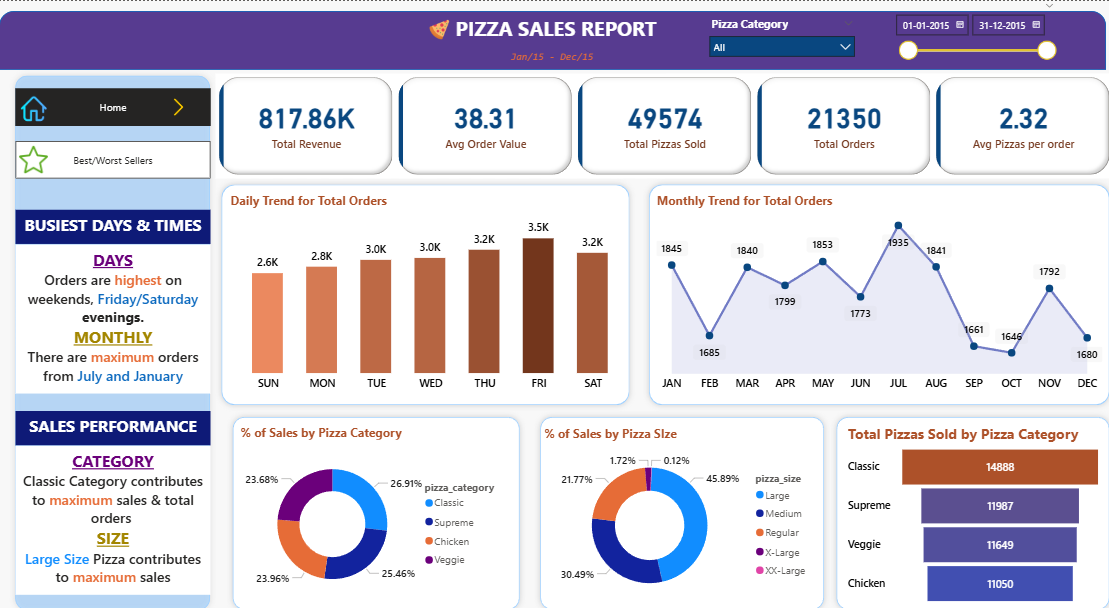

The dashboard page shown, as its layout file describes it:
{"tool":"powerbi","page":{"name":"Home","canvas":[1500,820],"ordinal":0},"visuals":[{"type":"shape","box":[14.3,91.4,275.7,728.6],"z":0},{"type":"cardVisual","fields":{"Data":["pizza_sales.Total Revenue","pizza_sales.Avg Order Value","pizza_sales.Total Pizzas Sold","pizza_sales.Total Orders","pizza_sales.Avg Pizzas per order"]},"box":[290,97.1,1200,140],"z":1000},{"type":"textbox","box":[22.9,278.6,260,45.7],"z":2000},{"type":"shape","box":[1.4,12.9,1475.7,78.6],"z":3000},{"type":"textbox","box":[588.6,12.9,311.4,62.9],"z":4000},{"type":"textbox","box":[675.7,60,127.1,30],"z":5000},{"type":"image","box":[570,16.9,36.9,43.1],"z":6000},{"type":"shape","box":[290,237.1,560,310],"z":7000},{"type":"columnChart","title":"Daily Trend for Total Orders","fields":{"Category":["pizza_sales.Order Day"],"Y":["pizza_sales.Total Orders"]},"box":[305.7,255.7,544.3,274.3],"z":8000},{"type":"shape","box":[860,237.1,630,310],"z":9000},{"type":"areaChart","title":"Monthly Trend for Total Orders","fields":{"Category":["pizza_sales.Order Month"],"Y":["pizza_sales.Total Orders"]},"box":[872.9,255.7,604.3,274.3],"z":10000},{"type":"shape","box":[305.7,547.1,398.6,272.9],"z":11000},{"type":"shape","box":[715.7,547.1,394.3,272.9],"z":12000},{"type":"shape","box":[1110,547.1,380,272.9],"z":13000},{"type":"donutChart","title":"% of Sales by Pizza Category","fields":{"Category":["pizza_sales.pizza_category"],"Y":["pizza_sales.Total Revenue"]},"box":[318.6,562.9,364.3,247.1],"z":14000},{"type":"donutChart","title":"% of Sales by Pizza SIze","fields":{"Y":["pizza_sales.Total Revenue"],"Category":["pizza_sales.pizza_size"]},"box":[722.9,564.3,371.4,247.1],"z":15000},{"type":"funnel","title":"Total Pizzas Sold by Pizza Category","fields":{"Category":["pizza_sales.pizza_category"],"Y":["pizza_sales.Total Pizzas Sold"]},"box":[1128.6,562.9,348.6,247.1],"z":16000},{"type":"textbox","box":[22.9,324.3,260,198.6],"z":17000},{"type":"textbox","box":[22.9,547.1,260,45.7],"z":18000},{"type":"textbox","box":[22.9,592.9,260,198.6],"z":19000},{"type":"slicer","fields":{"Values":["pizza_sales.pizza_category"]},"box":[938.6,14.3,214.3,75.7],"z":20000},{"type":"slicer","fields":{"Values":["pizza_sales.order_date"]},"box":[1185.7,0,234.3,97.1],"z":21000},{"type":"pageNavigator","box":[22.9,117.1,260,50],"z":21001},{"type":"pageNavigator","box":[22.9,187.1,260,50],"z":21002},{"type":"image","box":[210,125.7,61.4,32.9],"z":21003},{"type":"image","box":[22.9,121.4,48.6,44.3],"z":21004},{"type":"image","box":[22.9,187.1,48.6,50],"z":21005}]}

Visuals, with their boxes in screenshot pixels (x1, y1, x2, y2), scaled from the page's 1500x820 canvas onto the 1109x608 screenshot:
shape: l=11, t=68, r=214, b=607
cardVisual - pizza_sales.Total Revenue x pizza_sales.Avg Order Value: l=214, t=72, r=1102, b=176
textbox: l=17, t=207, r=209, b=240
shape: l=1, t=10, r=1092, b=68
textbox: l=435, t=10, r=665, b=56
textbox: l=500, t=44, r=594, b=67
image: l=421, t=13, r=449, b=44
shape: l=214, t=176, r=628, b=406
"Daily Trend for Total Orders" columnChart: l=226, t=190, r=628, b=393
shape: l=636, t=176, r=1102, b=406
"Monthly Trend for Total Orders" areaChart: l=645, t=190, r=1092, b=393
shape: l=226, t=406, r=521, b=607
shape: l=529, t=406, r=821, b=607
shape: l=821, t=406, r=1102, b=607
"% of Sales by Pizza Category" donutChart: l=236, t=417, r=505, b=601
"% of Sales by Pizza SIze" donutChart: l=534, t=418, r=809, b=602
"Total Pizzas Sold by Pizza Category" funnel: l=834, t=417, r=1092, b=601
textbox: l=17, t=240, r=209, b=388
textbox: l=17, t=406, r=209, b=440
textbox: l=17, t=440, r=209, b=587
slicer - pizza_sales.pizza_category: l=694, t=11, r=852, b=67
slicer - pizza_sales.order_date: l=877, t=0, r=1050, b=72
pageNavigator: l=17, t=87, r=209, b=124
pageNavigator: l=17, t=139, r=209, b=176
image: l=155, t=93, r=201, b=118
image: l=17, t=90, r=53, b=123
image: l=17, t=139, r=53, b=176
